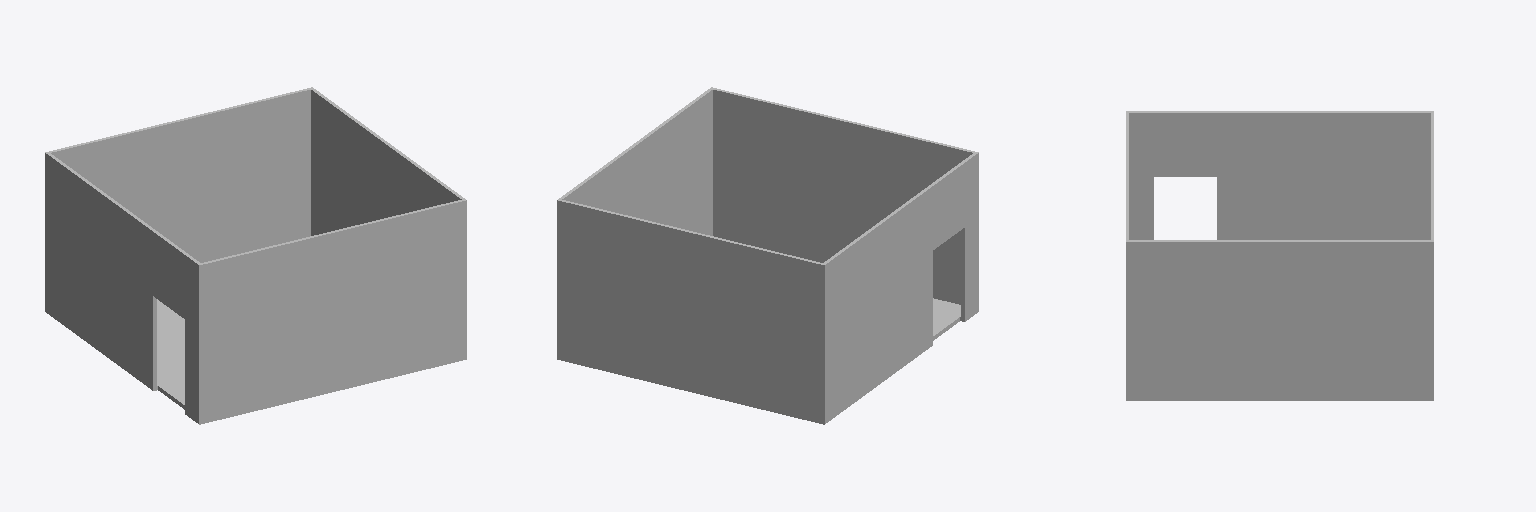
The model's file is Room_SR.obj.
The picture shows the model from 3 angles: view 1: azimuth 30°, elevation 25°; view 2: azimuth 150°, elevation 25°; view 3: azimuth 270°, elevation 25°; orthographic projection.
Visible parts, largest first — view 1: obj_0.001; view 2: obj_0.001; view 3: obj_0.001.
Boxes of the visible parts, <box> form: obj_0.001: <box>45,87,466,424</box>; obj_0.001: <box>557,87,978,424</box>; obj_0.001: <box>1126,111,1433,400</box>.
Bounding box in the file's own units: 1.95 × 1.11 × 1.95.